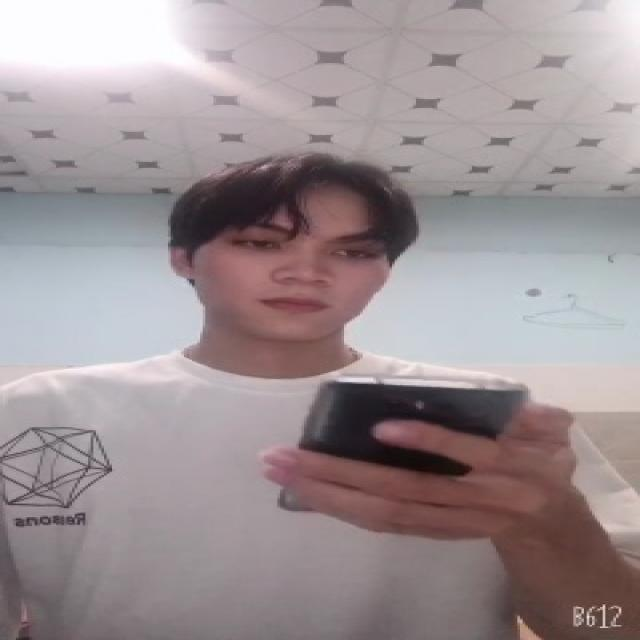Phone: (270, 374, 532, 521)
